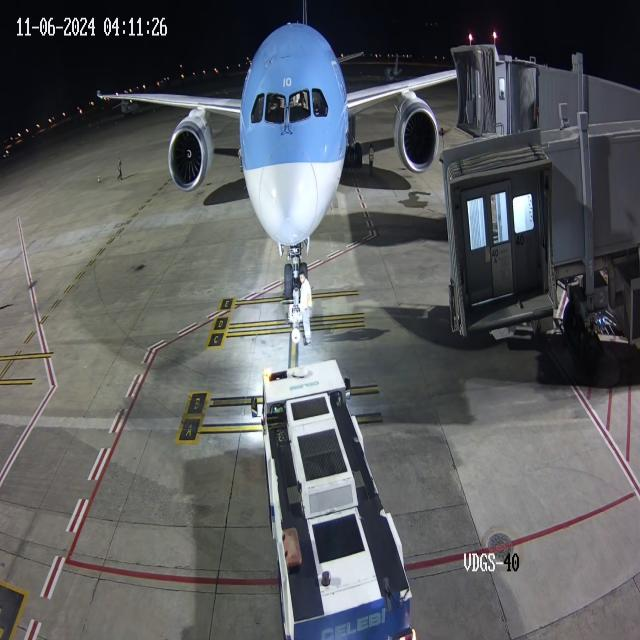bridge: (490, 28, 539, 136)
plane: (98, 22, 440, 295)
window: (250, 86, 330, 130)
